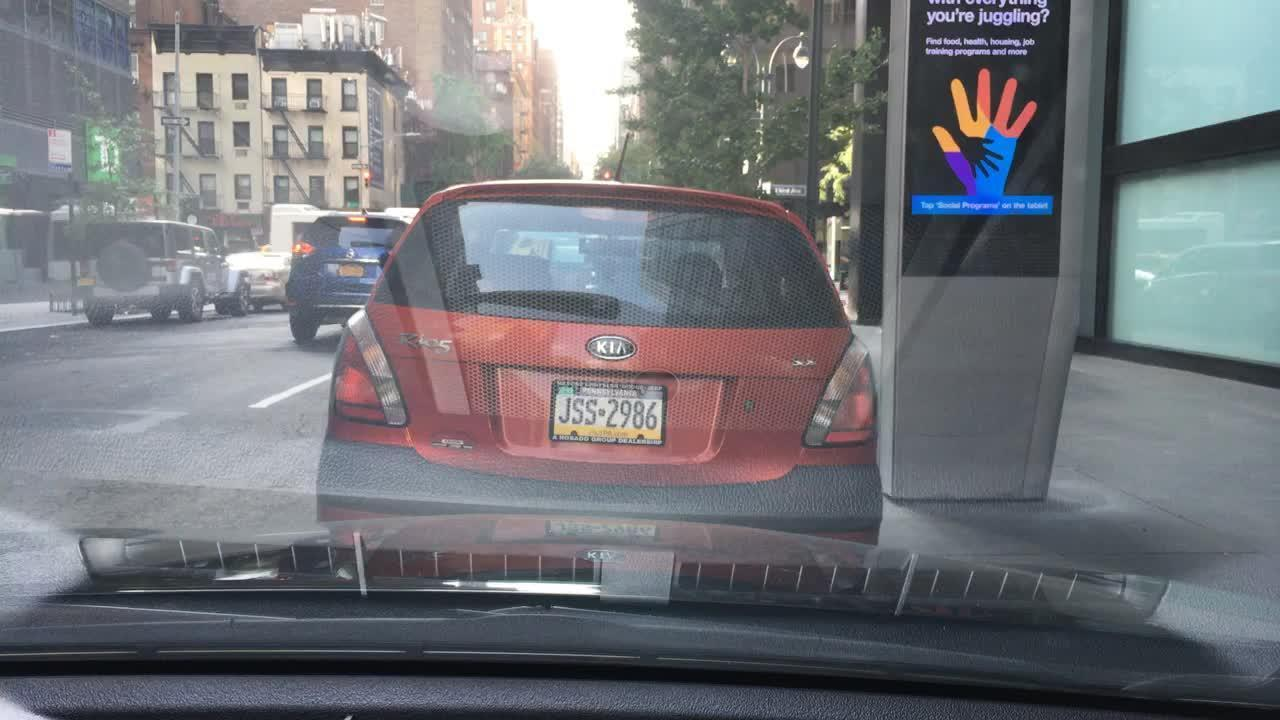kia: (581, 332, 647, 364)
